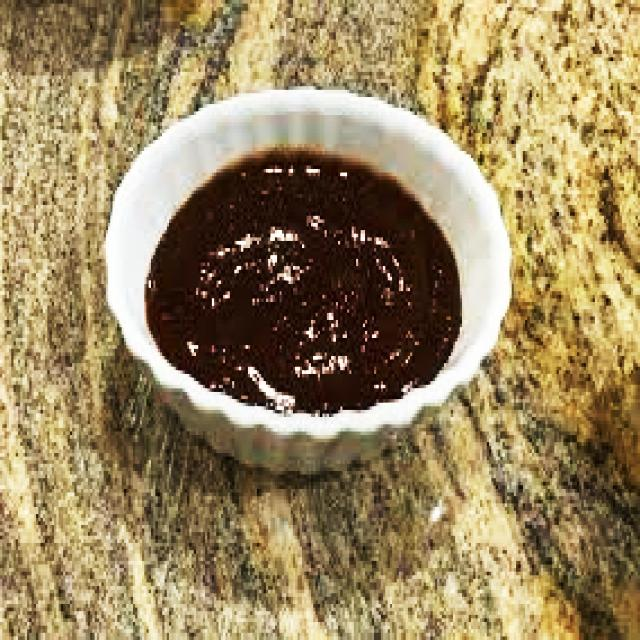ketchup: (146, 150, 460, 407)
